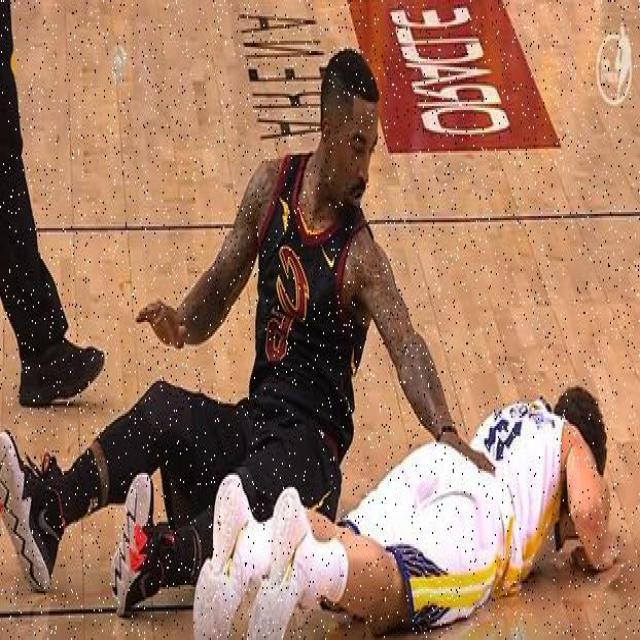fall: (218, 393, 608, 638)
